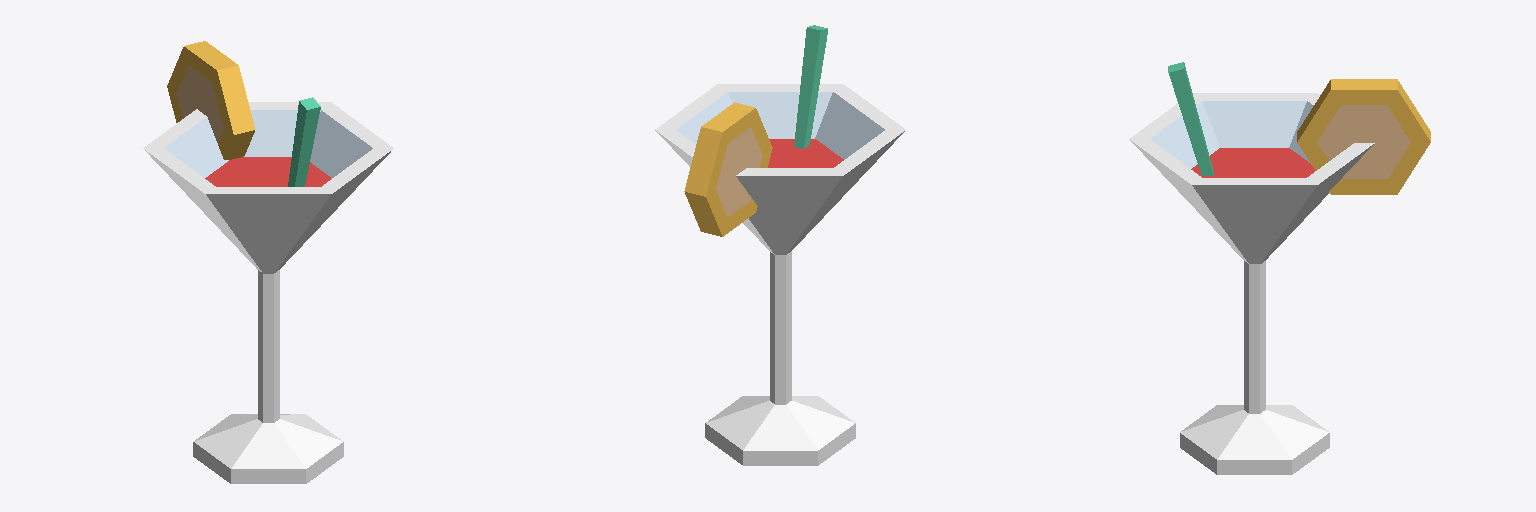
File: cocktail.obj
3 views of the same model, side by side, from view 1: azimuth 30°, elevation 25°; view 2: azimuth 150°, elevation 25°; view 3: azimuth 270°, elevation 25° (orthographic).
Visible parts, largest first — view 1: cocktail, lemon, straw; view 2: cocktail, lemon, straw; view 3: cocktail, lemon, straw.
Boxes of the visible parts, x1=… form: cocktail: x1=143, y1=102, x2=393, y2=483; lemon: x1=167, y1=41, x2=254, y2=159; straw: x1=288, y1=97, x2=320, y2=186; cocktail: x1=655, y1=84, x2=905, y2=465; lemon: x1=684, y1=102, x2=772, y2=236; straw: x1=794, y1=25, x2=827, y2=148; cocktail: x1=1129, y1=93, x2=1374, y2=474; lemon: x1=1297, y1=79, x2=1430, y2=194; straw: x1=1168, y1=62, x2=1213, y2=175.
Size of the model in its own units: 0.2607 by 0.5059 by 0.3615.